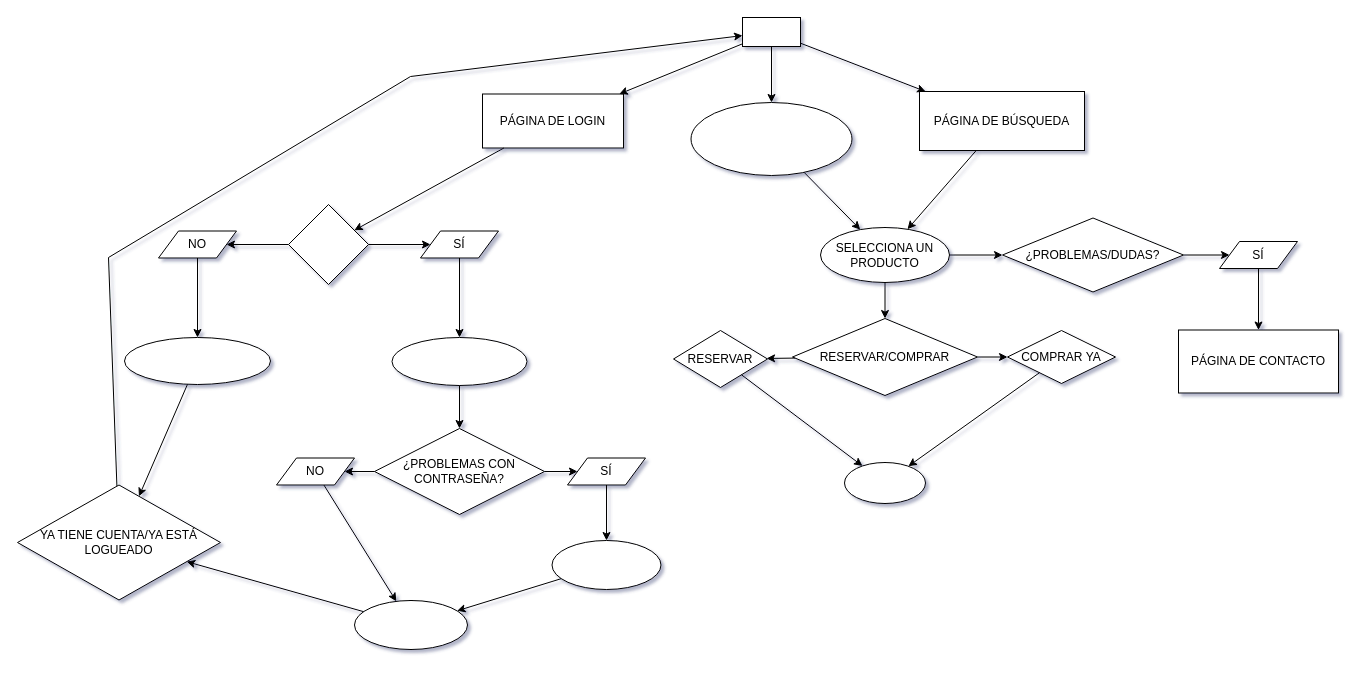
The diagram is 1362 pixels wide and 673 high, and some of its shapes have lost their labels. Here are the shapes that lost their labels. From the top down, the centre of each, then its label:
the point at 771,31: HOME
the point at 771,139: MOVERSE POR LOS PRODUCTOS DEL HOME
the point at 328,244: ¿TIENE CUENTA?
the point at 197,360: REALIZAR REGISTRO
the point at 459,361: REALIZAR EL LOGIN
the point at 885,483: PAGAR
the point at 606,565: RECUPERAR CONTRASEÑA
the point at 411,625: LOGIN COMPLETADO
